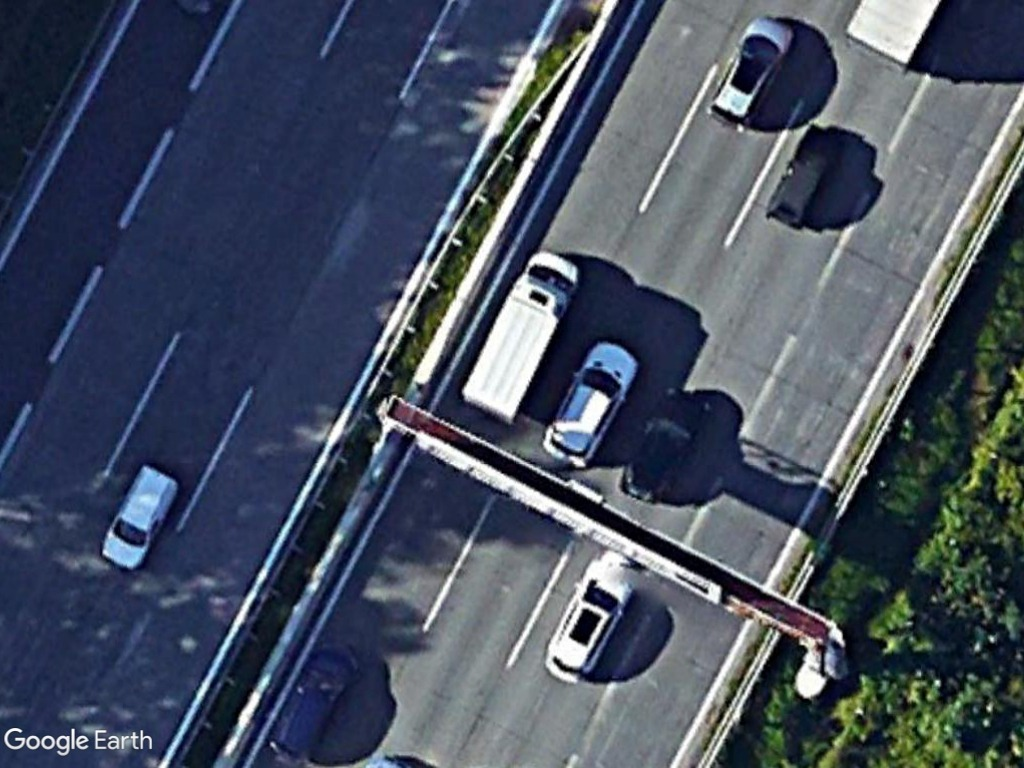car: (543, 329, 647, 471), (540, 554, 638, 690), (699, 11, 799, 137), (761, 119, 848, 235)
van: (454, 245, 588, 429), (94, 457, 182, 575)
